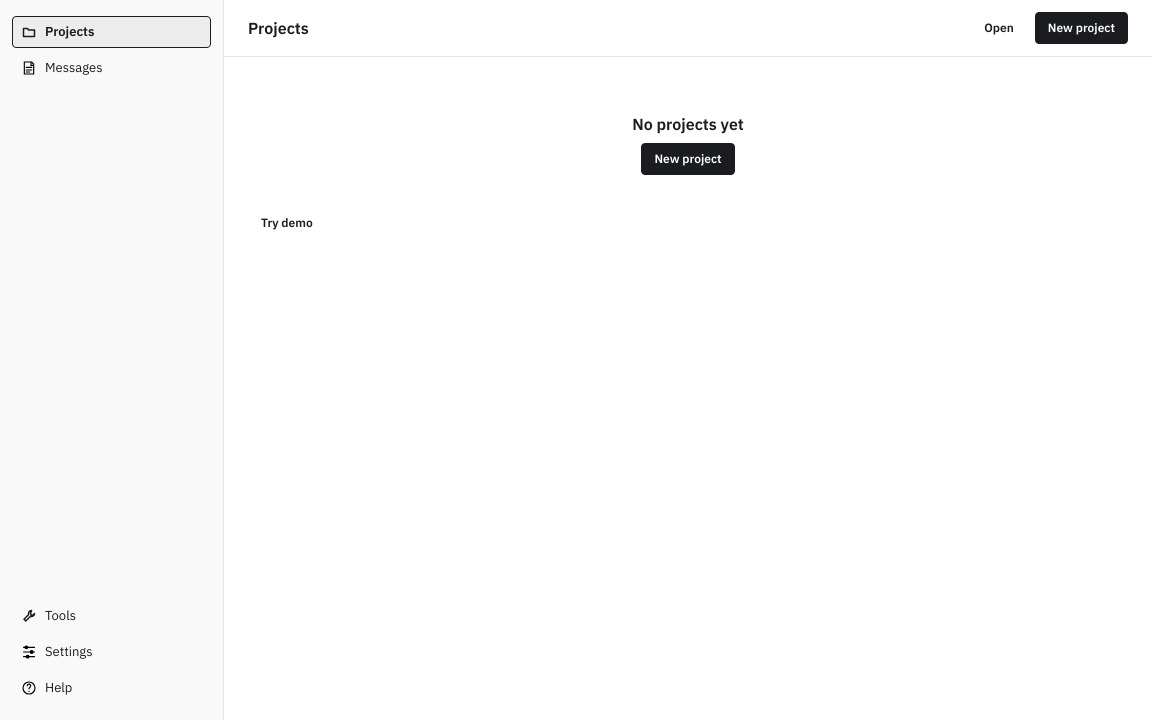
Test case: opening a workspace lists every entry as it declares itself, evidence or not
Expected: the navigation bar named "Main" is shown, [0,0,224,719]
Click the button "Open": click(999, 28) [971,12,1027,44]
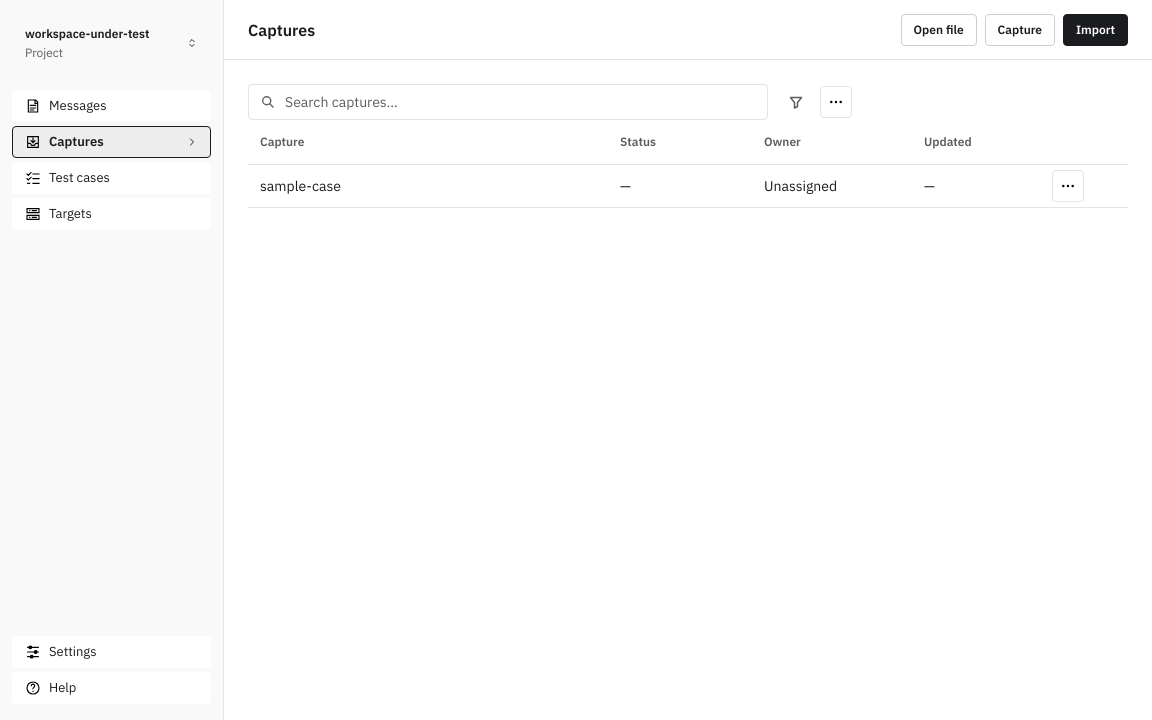
Now the button with aria-label "Project: " is shown
Now the table "Capture Status Owner Updated sample-case — Unassigned —" is shown, box [248,120,1128,208]
Now the row "sample-case — Unassigned —" is shown, box [248,164,1128,208]
Click the button with aria-label "Project: ": click(112, 43) [12,16,211,70]
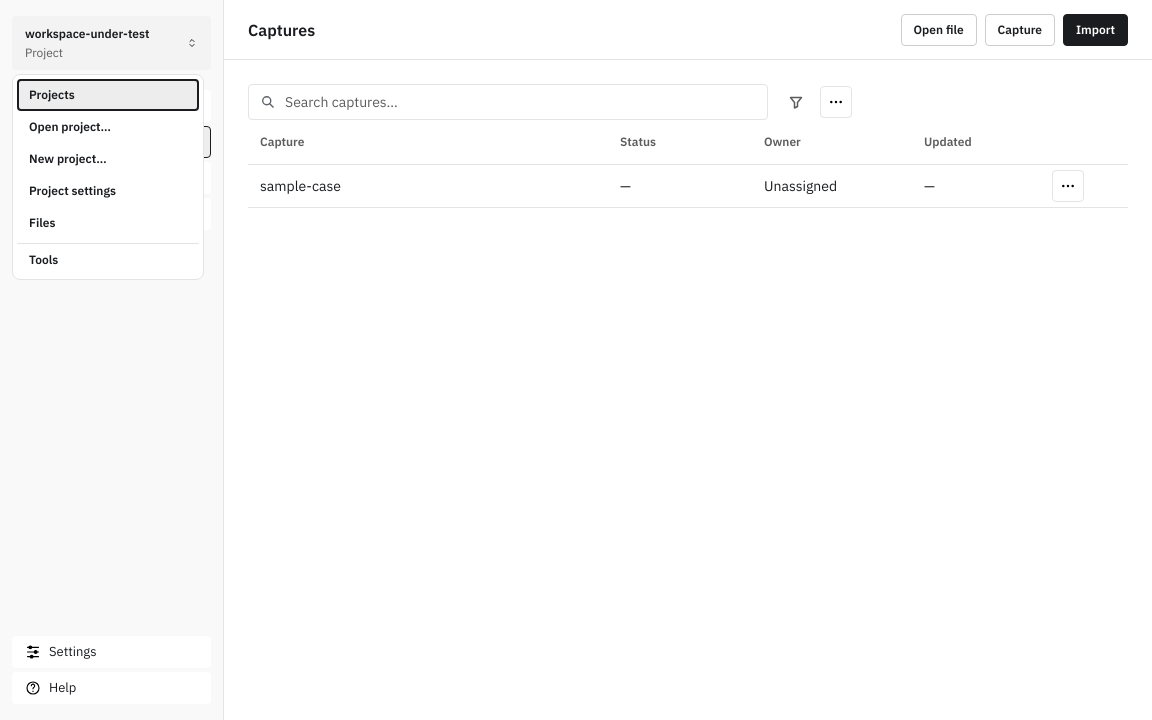
Click the menu item "Files": click(108, 223) [17,207,199,239]
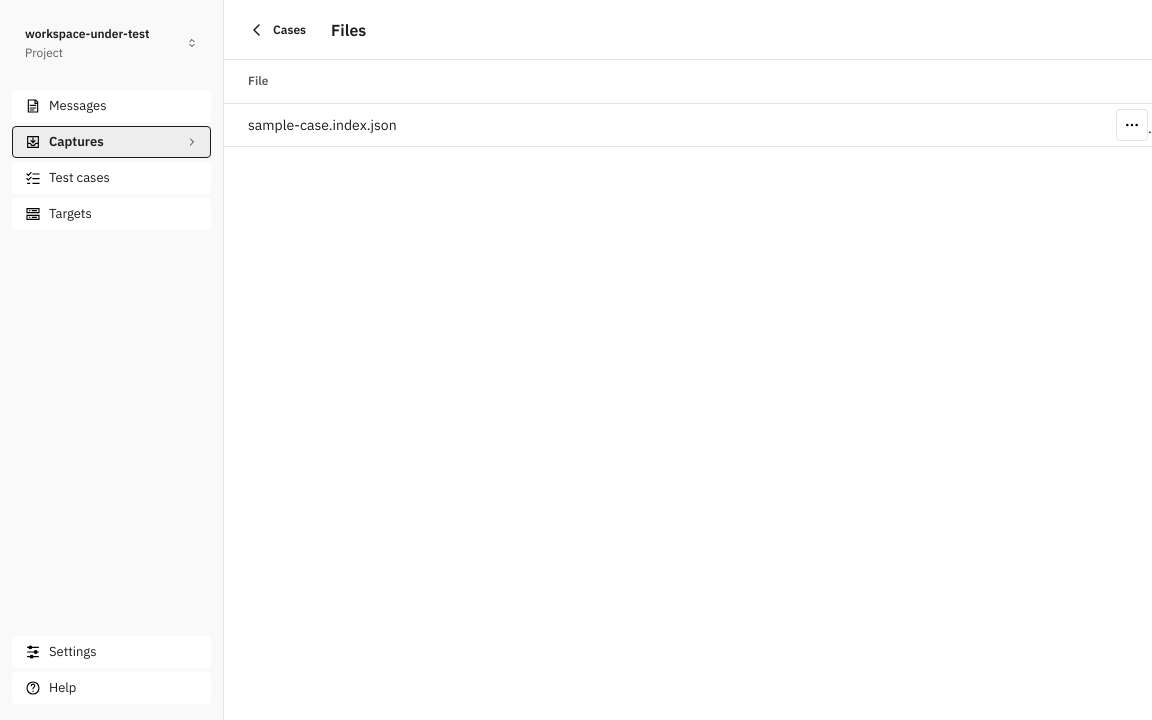
Now the row "sample-case.index.json" is shown, box [224,103,1151,146]
